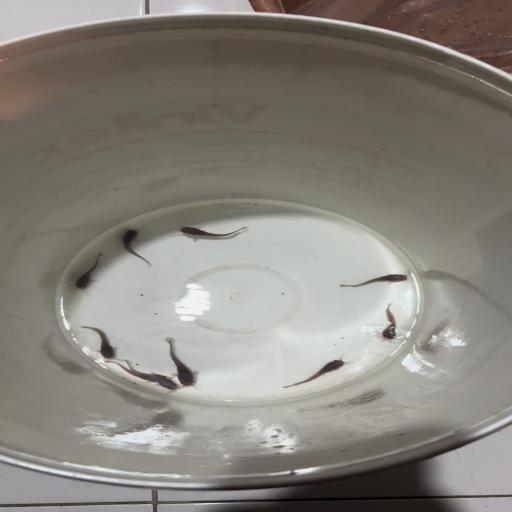lele: (282, 352, 359, 388), (163, 336, 202, 390), (124, 358, 178, 391), (104, 360, 168, 383), (120, 228, 154, 266), (334, 273, 410, 290), (80, 326, 117, 360), (72, 253, 106, 289), (172, 224, 250, 238), (380, 302, 399, 340)
